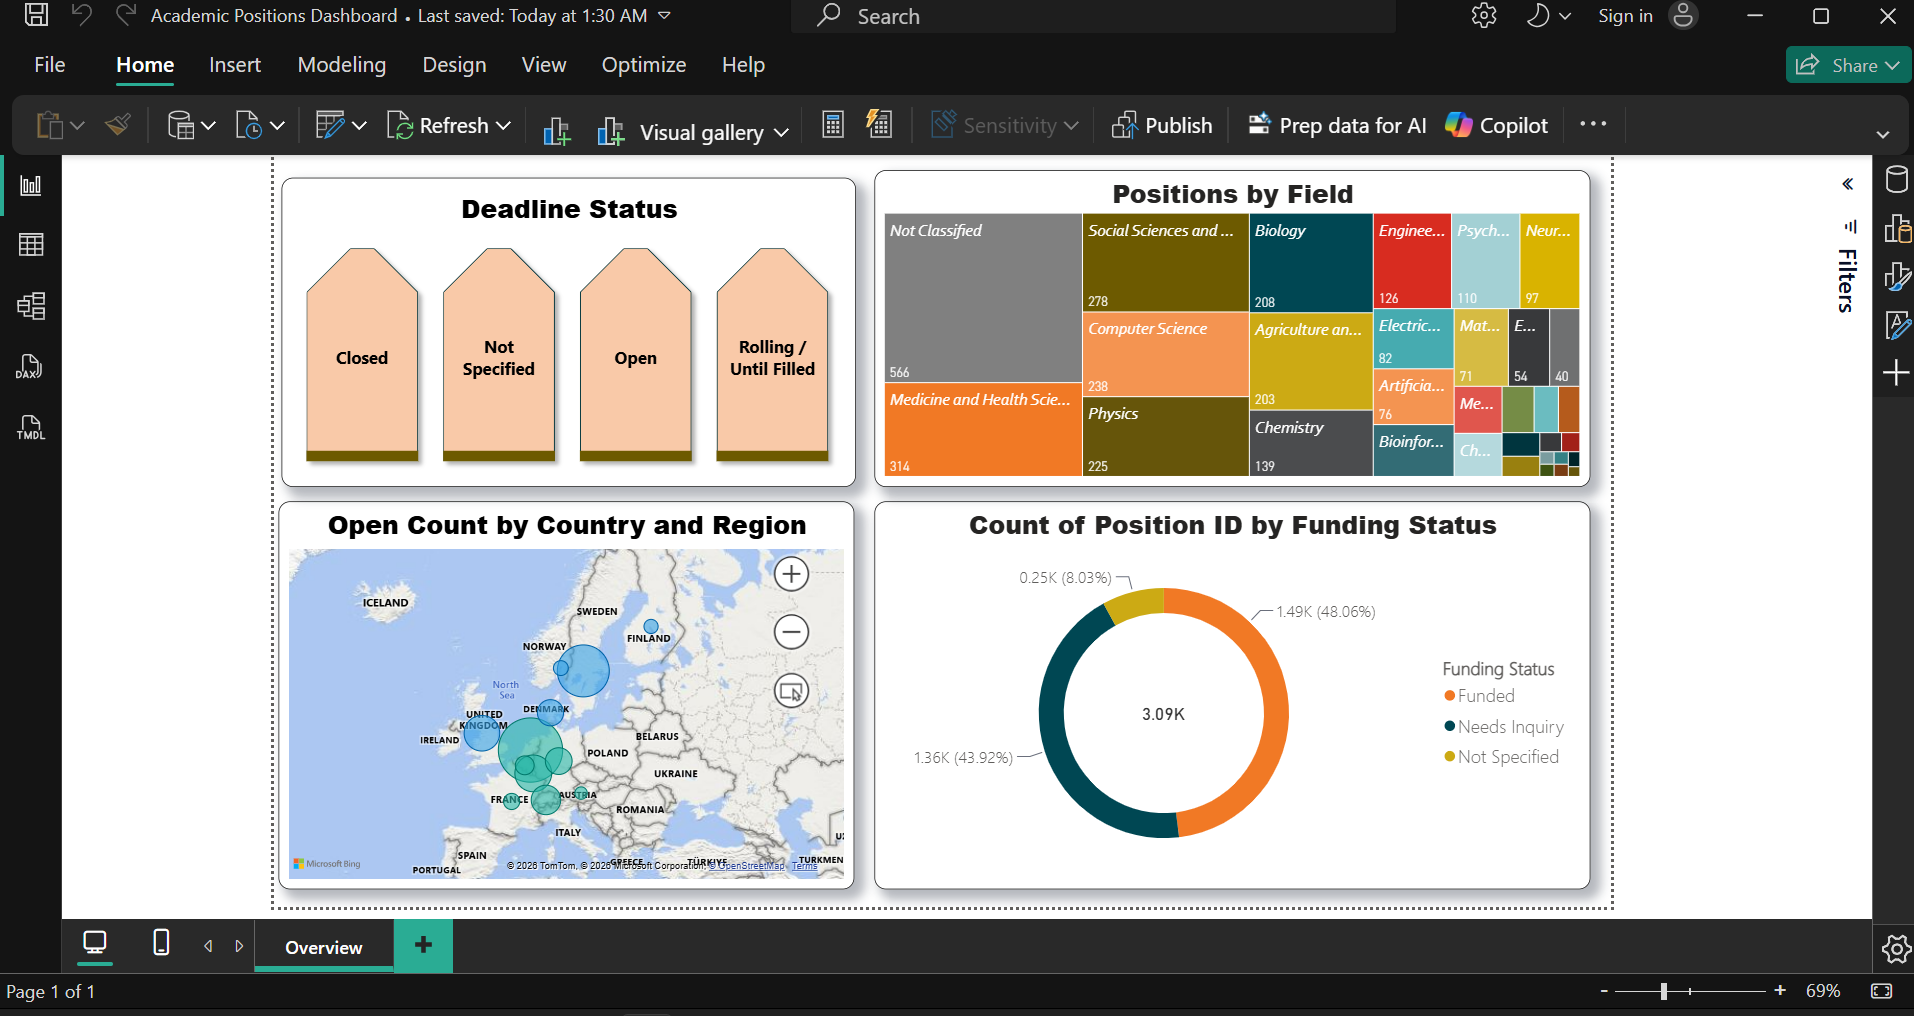

The dashboard page shown, as its layout file describes it:
{"tool":"powerbi","page":{"name":" Overview","canvas":[1280,720],"ordinal":0},"visuals":[{"type":"advancedSlicerVisual","fields":{"Values":["Positions.Deadline Status"]},"box":[6.7,21.5,550,296],"z":0},{"type":"map","fields":{"Category":["Countries.Country"],"Series":["Countries.Region"],"Size":["Positions.Open Count"]},"box":[5,331.7,551.7,371.7],"z":1000},{"type":"donutChart","fields":{"Category":["Positions.Funding Status"],"Y":["CountNonNull(Positions.Position ID)"]},"box":[575.5,331.3,685.5,371.6],"z":2000},{"type":"treemap","title":"Positions by Field","fields":{"Group":["Fields.Field"],"Values":["CountNonNull(Positions.Position ID)"]},"box":[575.5,14.8,685.5,303.2],"z":3000}]}

Visuals, with their boxes on the page's 1280x720 design canvas (x1, y1, x2, y2). These are canvas units, not pixel positions in the 1916x1017 screenshot, which may show the page scaled, cropped or inside an application window:
advancedSlicerVisual - Positions.Deadline Status: x1=7, y1=22, x2=557, y2=318
map - Countries.Country x Countries.Region: x1=5, y1=332, x2=557, y2=703
donutChart - Positions.Funding Status x CountNonNull(Positions.Position ID): x1=576, y1=331, x2=1261, y2=703
"Positions by Field" treemap: x1=576, y1=15, x2=1261, y2=318
